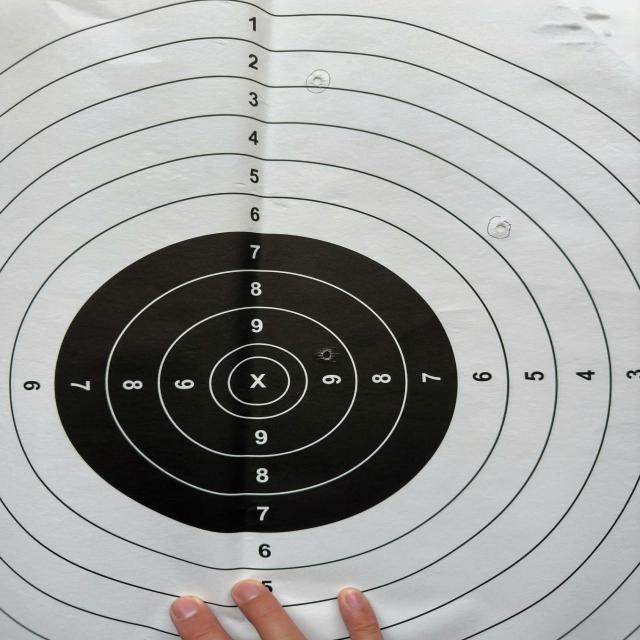bullet: (318, 348, 335, 361), (496, 220, 510, 234), (312, 76, 324, 87)
target: (0, 0, 640, 640)
